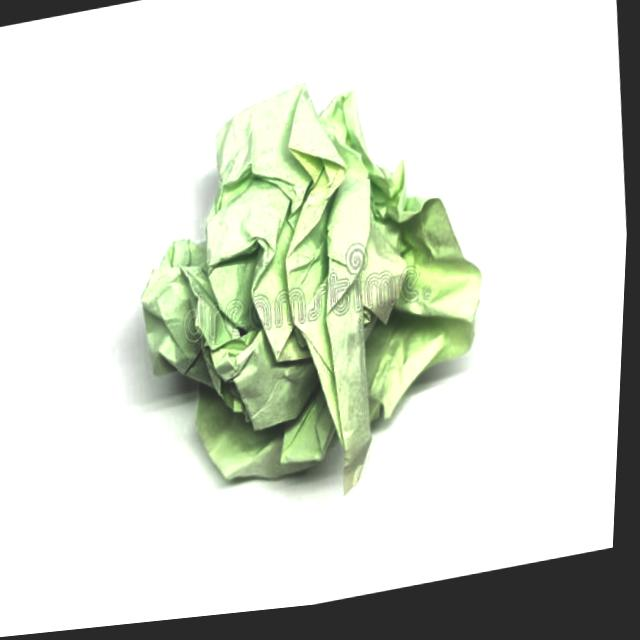Paper: (143, 86, 486, 504)
